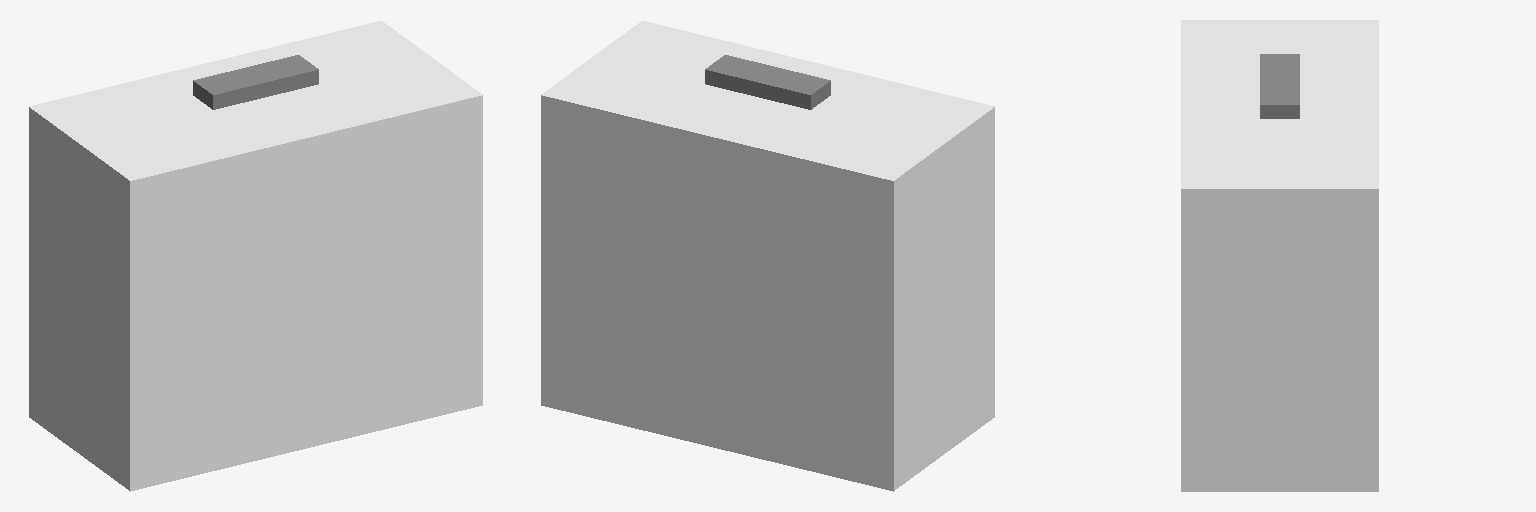
URDF robot description (cargo_bag):
<?xml version="1.0"?>

<!-- Rigid version of the cargo bag -->

<!-- All dimensions match the original deformable cargo bag (50 x 42 x 25 cm) -->
<!-- We connect the handle and the main compartment with a few "dummy" links/joints -->
<!--   to mimic how the deformable handle should behave -->
<!-- Three revolute joints allows us to mimic a ball joint while allowing us to set limits -->
<!--   on the motion for certain axes, and add friction -->

<!-- NOTE: to edit this file, ensure the following: -->
<!-- 1) Update the visual and collision dimensions together -->
<!-- 2) All dummy links should have the same properties (like inertia) -->
<!-- 3) If updating the mass, also update the inertia! However, in general, we should load this -->
<!--    into pybullet NOT using the USE_INERTIA_FROM_FILE flag since these values might be wrong -->

<!-- TODO: decide if there should be a prismatic link as well -->

<robot name="cargo_bag">
    <link name="main_compartment_link">
        <self_collide>false</self_collide>
        <visual name="main_compartment_visual">
            <origin rpy="0 0 0" xyz="0 0 0"/>
            <geometry>
                <box size="0.50 0.25 0.42"/>
            </geometry>
            <material name="bag_material">
                <!-- White -->
                <color rgba="1 1 1 1"/>
            </material>
        </visual>
        <collision name="main_compartment_collision">
            <origin rpy="0 0 0" xyz="0 0 0"/>
            <geometry>
                <box size="0.50 0.25 0.42"/>
            </geometry>
        </collision>
        <inertial>
            <origin rpy="0 0 0" xyz="0 0 0"/>
            <!-- Set the mass so that the whole bag has a total mass of 5kg -->
            <mass value="4.885"/>
            <inertia ixx="0.09725221" ixy="0" ixz="0" iyy="0.17358033" iyz="0" izz="0.12721354"/>
        </inertial>
    </link>

    <link name="handle_link">
        <self_collide>false</self_collide>
        <visual name="handle_visual">
            <origin rpy="0 0 0" xyz="0 0 0"/>
            <geometry>
                <box size="0.15 0.05 0.02"/>
            </geometry>
            <material name="handle_material">
                <!-- Gray -->
                <color rgba="0.6 0.6 0.6 1"/>
            </material>
        </visual>
        <collision name="handle_collision">
            <origin rpy="0 0 0" xyz="0 0 0"/>
            <geometry>
                <box size="0.15 0.05 0.02"/>
            </geometry>
        </collision>
        <inertial>
            <origin rpy="0 0 0" xyz="0 0 0"/>
            <mass value="0.1"/>
            <inertia ixx="2.41667e-5" ixy="0" ixz="0" iyy="1.90833e-4" iyz="0" izz="2.08333e-4"/>
        </inertial>
    </link>

    <joint name="pitch_joint" type="revolute">
        <parent link="main_compartment_link"/>
        <child link="pitch_link"/>
        <axis xyz="0 1 0" />
        <!-- Origin specifies the ball joint location -->
        <origin rpy="0 0 0" xyz="0 0 0.21"/>
        <limit effort="1.0" lower="-0.7" upper="0.7" velocity="1.0"/>
    </joint>

    <link name="pitch_link">
        <!-- Small dummy mass/inertia values so this link is not ignored -->
        <inertial>
            <mass value="0.005" />
            <inertia ixx="5.0e-5" ixy="0" ixz="0" iyy="5.0e-5" iyz="0" izz="5.0e-5" />
        </inertial>
    </link>

    <joint name="yaw_joint" type="revolute">
        <parent link="pitch_link"/>
        <child link="yaw_link"/>
        <axis xyz="0 0 1" />
        <limit effort="1.0" lower="-0.52360" upper="0.52360" velocity="1.0"/>
    </joint>

    <link name="yaw_link">
        <!-- Small dummy mass/inertia values so this link is not ignored -->
        <inertial>
            <mass value="0.005" />
            <inertia ixx="5.0e-5" ixy="0" ixz="0" iyy="5.0e-5" iyz="0" izz="5.0e-5" />
        </inertial>
    </link>

    <joint name="roll_joint" type="revolute">
        <parent link="yaw_link"/>
        <child link="roll_link"/>
        <axis xyz="1 0 0" />
        <limit effort="1.0" lower="-0.52360" upper="0.52360" velocity="1.0"/>
    </joint>

    <link name="roll_link">
        <!-- Small dummy mass/inertia values so this link is not ignored -->
        <inertial>
            <mass value="0.005" />
            <inertia ixx="5.0e-5" ixy="0" ixz="0" iyy="5.0e-5" iyz="0" izz="5.0e-5" />
        </inertial>
    </link>

    <joint name="handle_joint" type="fixed">
        <!-- Origin specifies the handle's offset from ball joint location -->
        <origin xyz="0 0 0.025" />
        <parent link="roll_link"/>
        <child link="handle_link"/>
    </joint>

</robot>

--- Facts derived from the render (not from the file) ---
3 views of the same robot in one strip: view 1: azimuth 30°, elevation 25°; view 2: azimuth 150°, elevation 25°; view 3: azimuth 270°, elevation 25° (orthographic).
Robot: cargo_bag — 5 links, 4 joints (3 revolute, 1 fixed); root link main_compartment_link; default pose: all joints at 0.
Visible links, largest first — view 1: main_compartment_link, handle_link; view 2: main_compartment_link, handle_link; view 3: main_compartment_link, handle_link.
Link boxes in pixels (bbox=[...]): main_compartment_link: bbox=[29, 20, 482, 491]; handle_link: bbox=[193, 55, 318, 109]; main_compartment_link: bbox=[541, 20, 994, 491]; handle_link: bbox=[705, 55, 830, 109]; main_compartment_link: bbox=[1181, 20, 1378, 491]; handle_link: bbox=[1260, 54, 1299, 118].
Size in the robot's own frame: 0.5 by 0.25 by 0.455 metres.
Geometry: primitives only (box / cylinder / sphere), no mesh files.